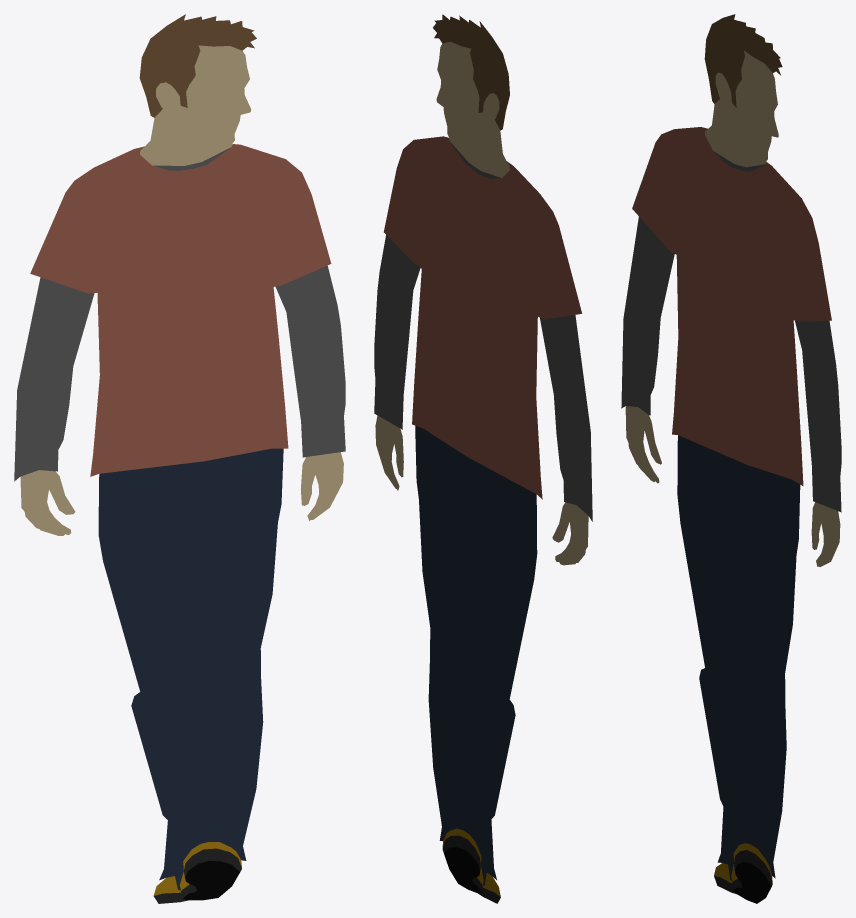
Rendered from road.obj.
The picture shows the model from 3 angles, left to right: view 1: azimuth 30°, elevation 25°; view 2: azimuth 150°, elevation 25°; view 3: azimuth 330°, elevation 25°; orthographic projection.
Parts seen in each view (by area): view 1: Mesh1 Bryce1 _______SU__1 Model; view 2: Mesh1 Bryce1 _______SU__1 Model; view 3: Mesh1 Bryce1 _______SU__1 Model.
Part boxes in pixels (<box>): Mesh1 Bryce1 _______SU__1 Model: <box>14,14,345,903</box>; Mesh1 Bryce1 _______SU__1 Model: <box>374,14,592,903</box>; Mesh1 Bryce1 _______SU__1 Model: <box>621,14,841,903</box>.
Size of what is drawn, in the model's own units: 0.5899 by 1.81 by 0.2026.
